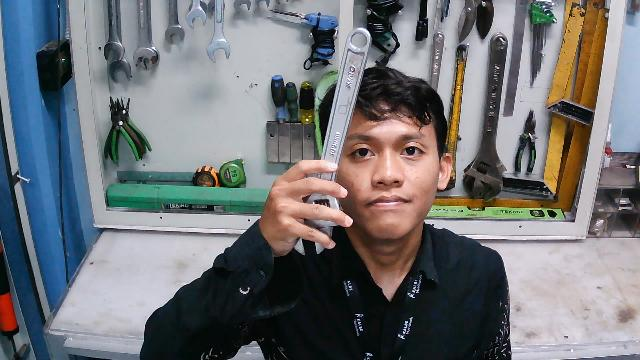kunci_inggris: (292, 21, 373, 262)
